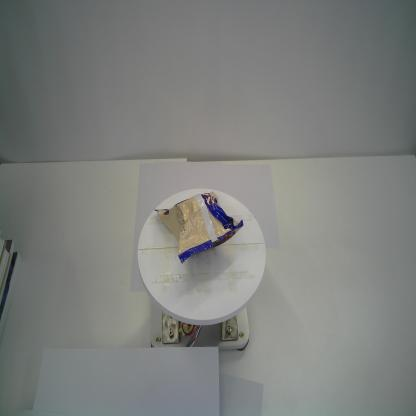Dessert: (154, 190, 244, 264)
